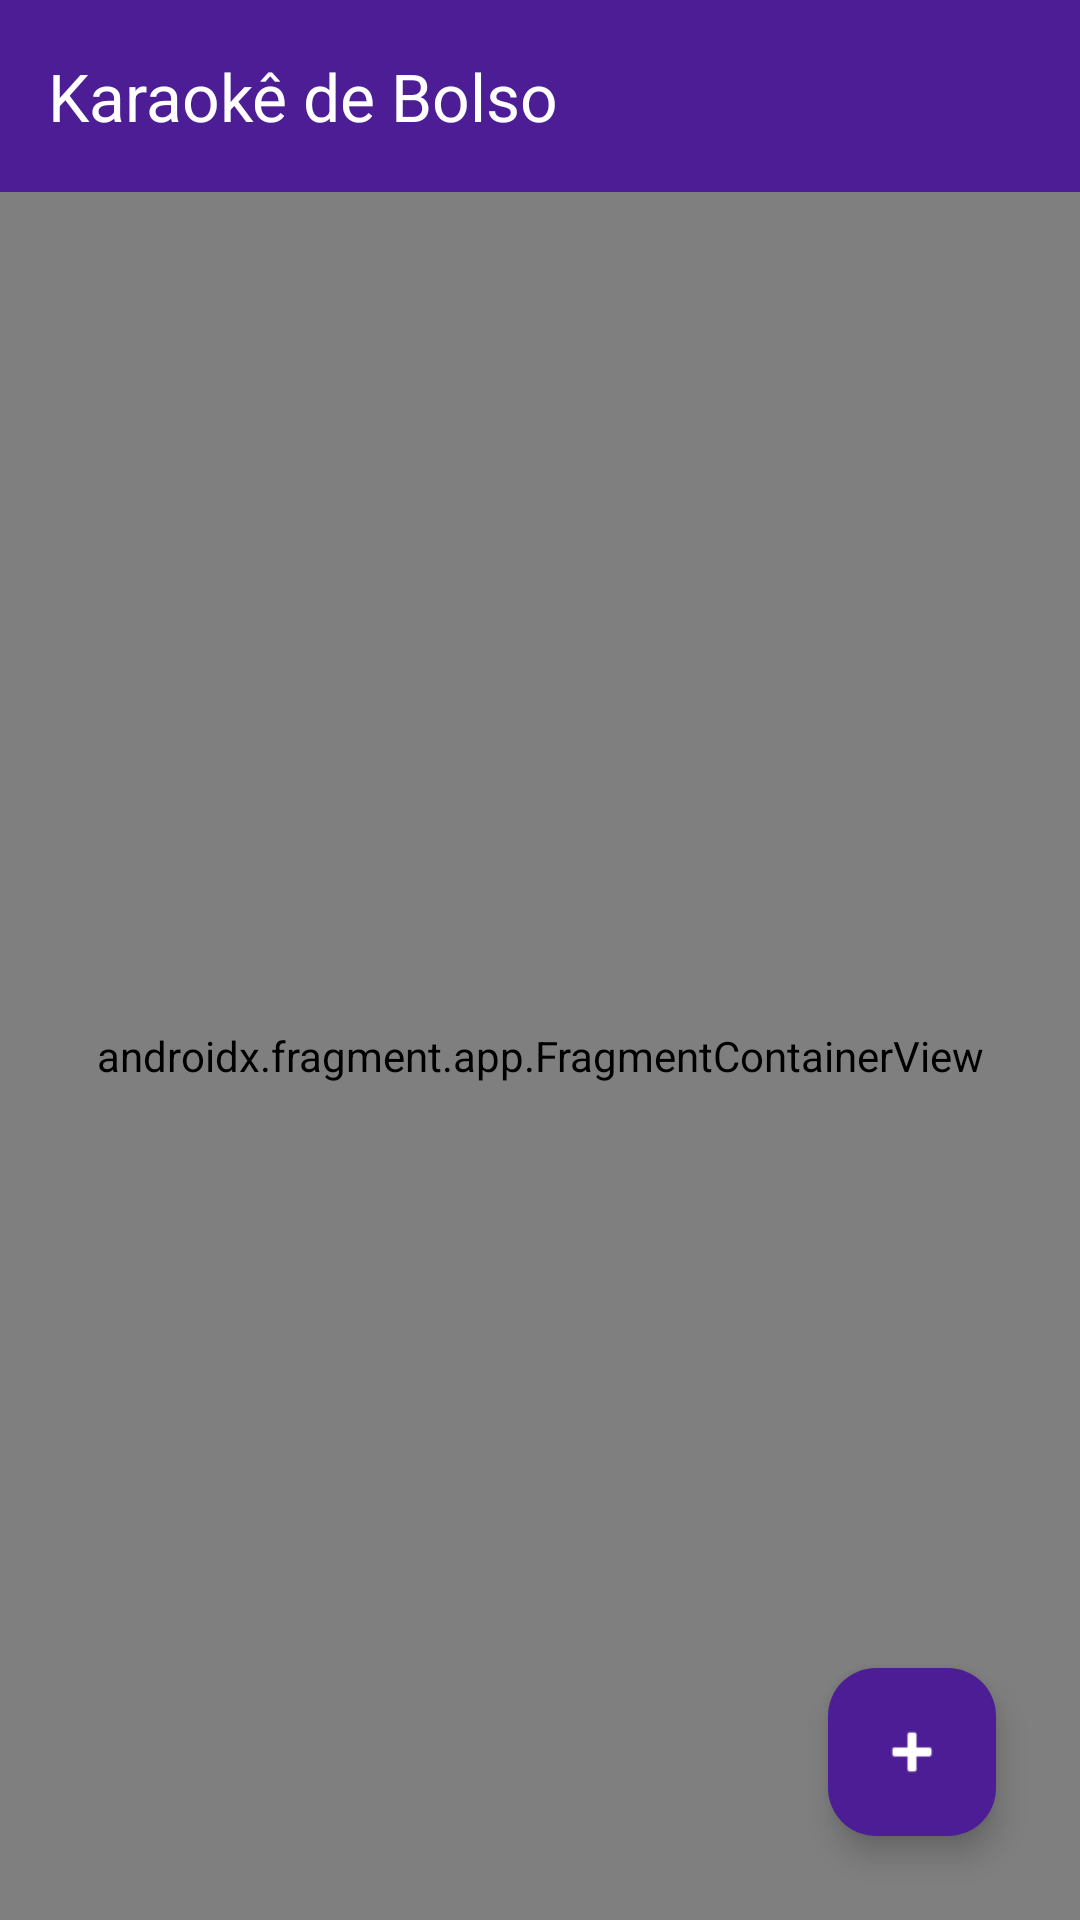

Icons on this 1080px x 1920px Android screen, each with the point to tap as point (x, y):
Adicionar música: point (912, 1752)
